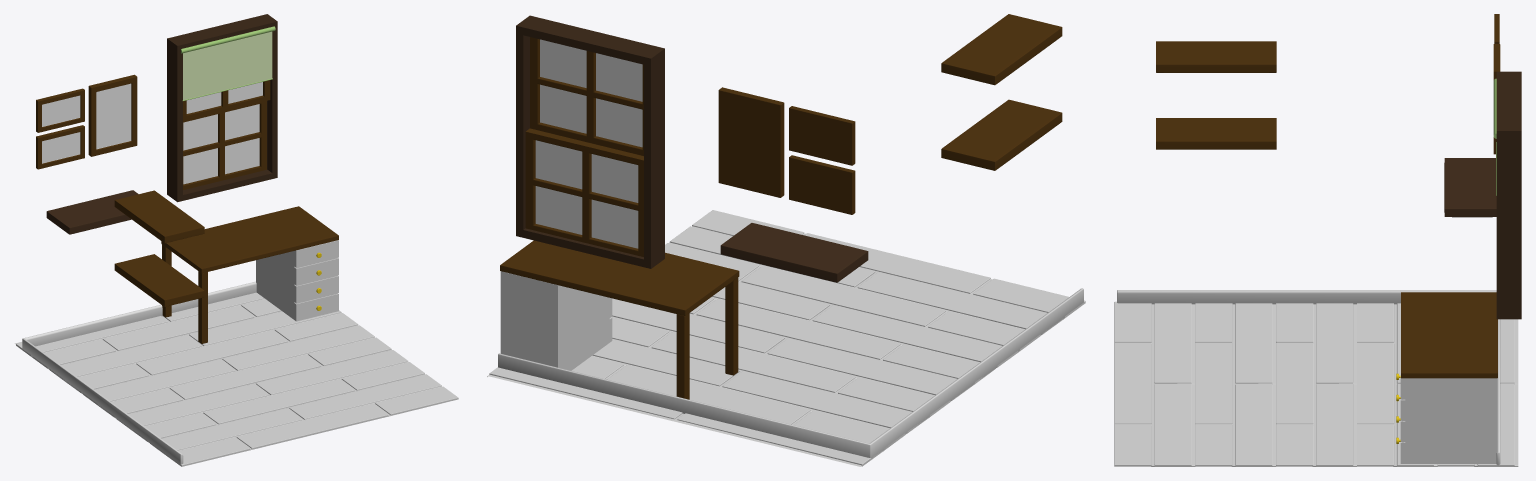
Rendered from HabitacionFerret6.fbx.
The picture shows the model from 3 angles, left to right: view 1: azimuth 30°, elevation 25°; view 2: azimuth 150°, elevation 25°; view 3: azimuth 270°, elevation 25°; orthographic projection. The views are drawn at different scales.
Visible parts, largest first — view 1: Floor, Cube.002, Cube, Cube.003, Cube.001, Cube.014, Walls.002, Cuedro3, Estante2, Estante1, Estante3, Cube.013 (+3 smaller); view 2: Floor, Cube.003, Cube.002, Cube.013, Walls.002, Cube, Cube.001, Cuedro3, Estante3, Estante2, Estante1, Cuadro2 (+3 smaller); view 3: Floor, Cube.001, Cube, Cube.002, Walls.002, Estante1, Estante2, Estante3.
Boxes of the visible parts, x1,y1,x2,y2 form: Floor: [14, 292, 458, 466]; Cube.002: [167, 14, 277, 202]; Cube: [161, 206, 338, 273]; Cube.003: [183, 101, 266, 189]; Cube.001: [256, 240, 338, 321]; Cube.014: [181, 26, 275, 101]; Walls.002: [22, 281, 256, 464]; Cuedro3: [88, 74, 137, 156]; Estante2: [114, 190, 204, 243]; Estante1: [114, 254, 204, 306]; Estante3: [46, 190, 138, 234]; Cube.013: [183, 80, 270, 120]; Floor: [487, 210, 1085, 466]; Cube.003: [525, 128, 643, 256]; Cube.002: [516, 15, 664, 268]; Cube.013: [530, 37, 643, 155]; Walls.002: [498, 288, 1083, 458]; Cube: [500, 240, 739, 315]; Cube.001: [500, 271, 612, 370]; Cuedro3: [718, 87, 784, 197]; Estante3: [720, 223, 868, 282]; Estante2: [941, 14, 1062, 85]; Estante1: [941, 99, 1062, 170]; Cuadro2: [789, 106, 855, 165]; Floor: [1114, 301, 1518, 466]; Cube.001: [1400, 353, 1497, 463]; Cube: [1401, 292, 1497, 378]; Cube.002: [1496, 71, 1521, 319]; Walls.002: [1117, 290, 1500, 465]; Estante1: [1156, 118, 1276, 149]; Estante2: [1156, 41, 1276, 72]; Estante3: [1444, 158, 1496, 217].
Bounding box in the file's own units: 382 × 353 × 403.
